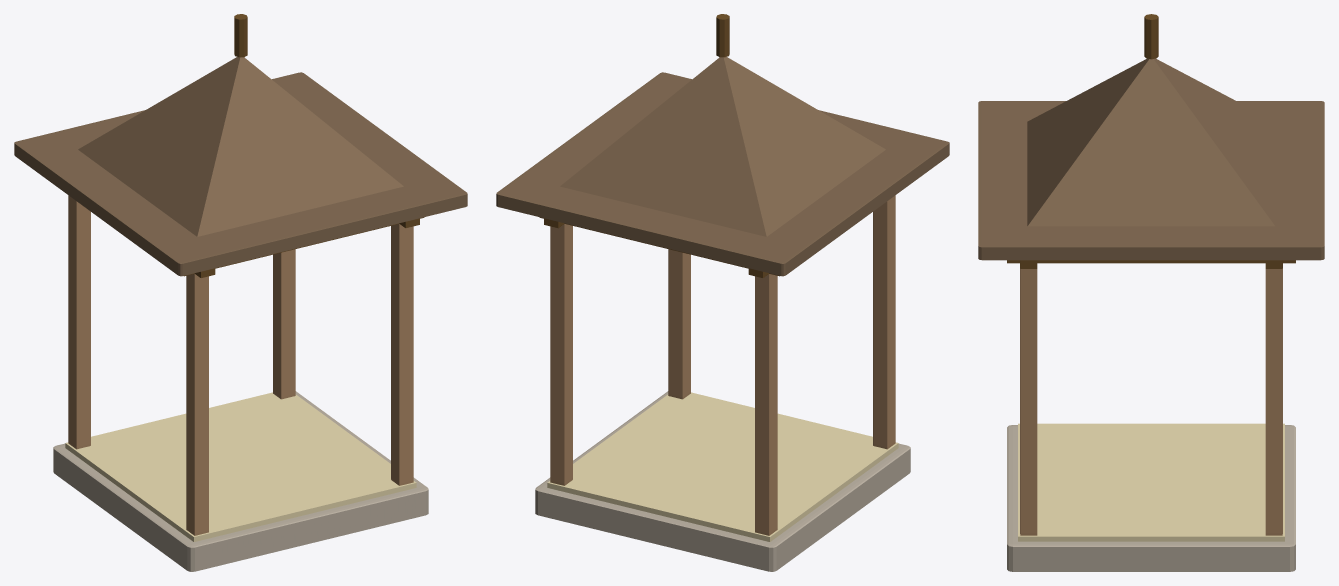
Rendered from tea_pavilion.glb.
3 views of the same model, side by side, from view 1: azimuth 30°, elevation 25°; view 2: azimuth 150°, elevation 25°; view 3: azimuth 270°, elevation 25° (orthographic). The views are drawn at different scales.
Parts seen in each view (by area): view 1: tea_pavilion; view 2: tea_pavilion; view 3: tea_pavilion.
Boxes of the visible parts, x1=… form: tea_pavilion: x1=14, y1=14, x2=467, y2=571; tea_pavilion: x1=496, y1=14, x2=949, y2=571; tea_pavilion: x1=978, y1=14, x2=1324, y2=571.
Bounding box in the file's own units: 2.4 × 3.78 × 2.4.
